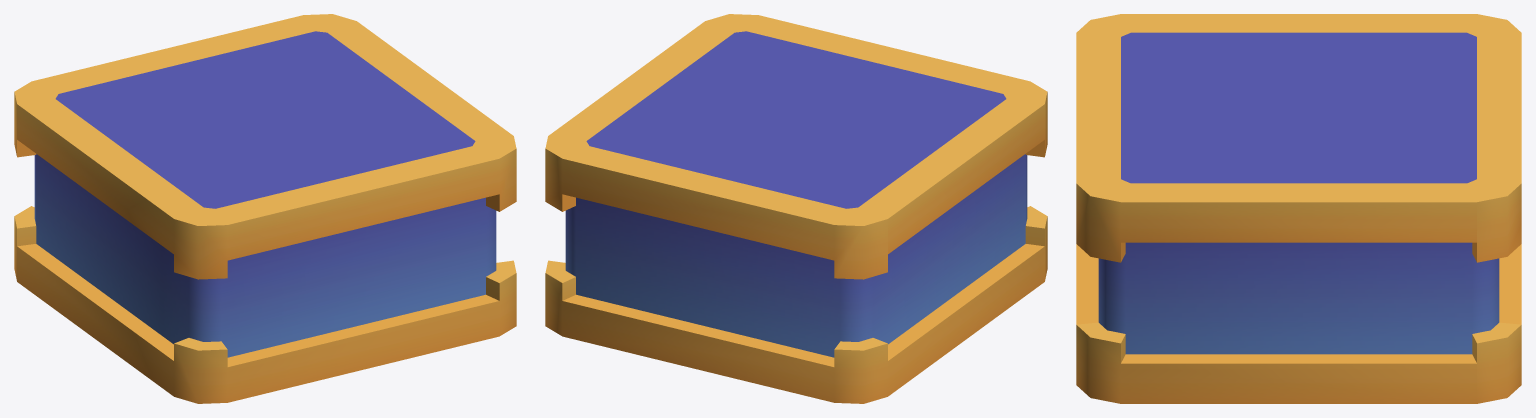
The model's file is kenney-platformer-block-moving-blue.glb.
3 views of the same model, side by side, from view 1: azimuth 30°, elevation 25°; view 2: azimuth 150°, elevation 25°; view 3: azimuth 270°, elevation 25° (orthographic). The views are drawn at different scales.
Parts seen in each view (by area): view 1: block-moving-blue; view 2: block-moving-blue; view 3: block-moving-blue.
Part boxes in pixels (x1=…): block-moving-blue: x1=14, y1=14, x2=516, y2=403; block-moving-blue: x1=545, y1=14, x2=1047, y2=403; block-moving-blue: x1=1076, y1=14, x2=1521, y2=403.
Bounding box in the file's own units: 1 × 0.5001 × 1.
1 material, 1 textured.
